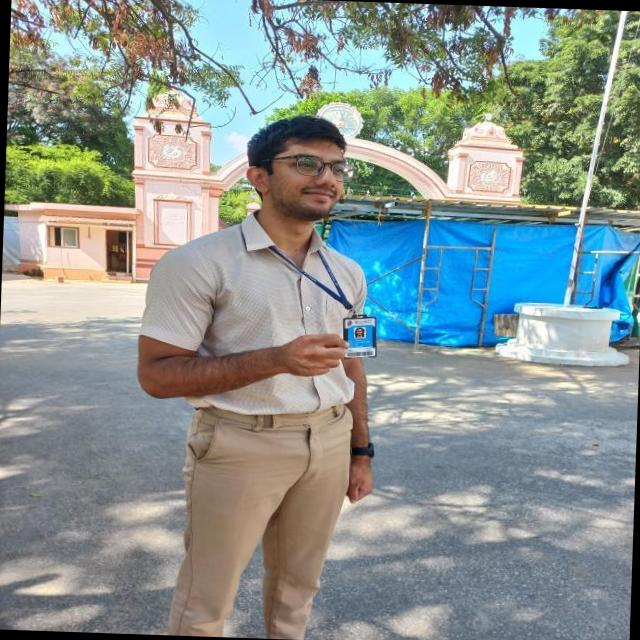id_card: (266, 230, 391, 356)
